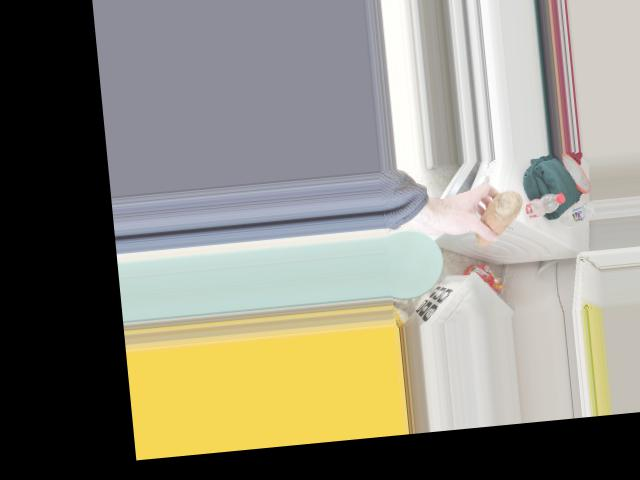sweet_potato: (471, 185, 525, 252)
